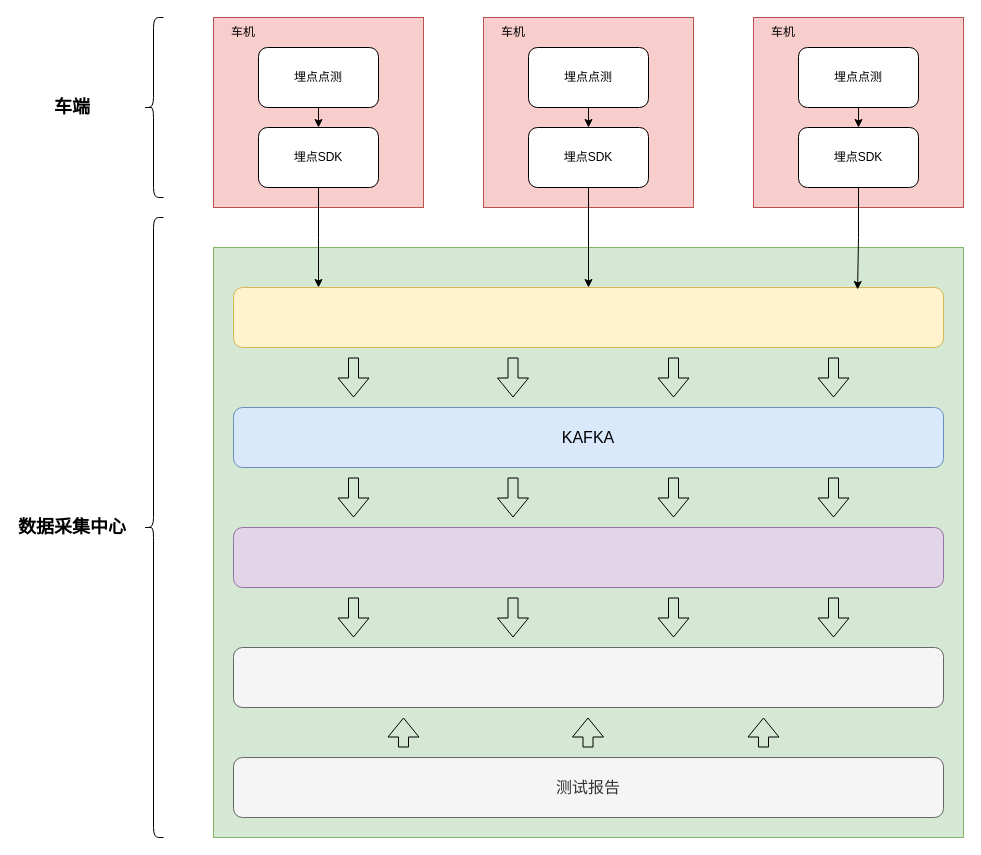
Some shapes in this 981 by 855 pixel diagram are drawn without their labels. Here are the shapes that lost their labels. From the top down, the box of each, then its label:
(232, 286, 944, 348): websocket service
(232, 526, 944, 588): FLINK
(232, 646, 944, 708): MongoDB
